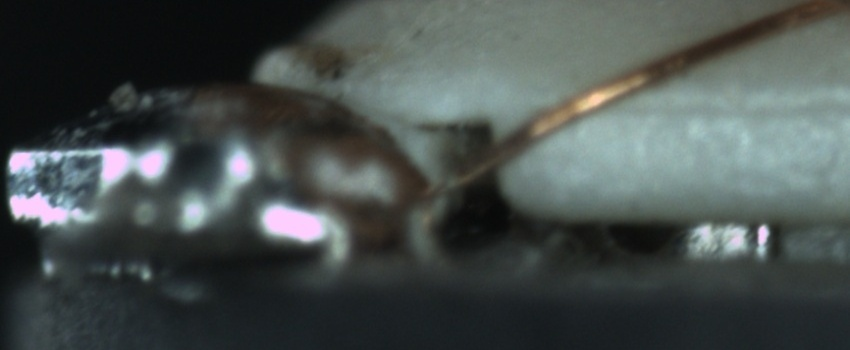DL: (585, 73, 837, 146)
